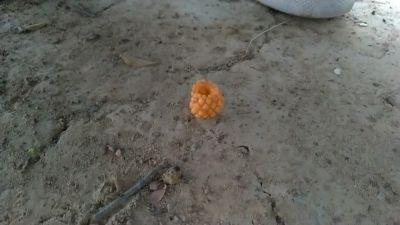eggs: (189, 77, 226, 124)
